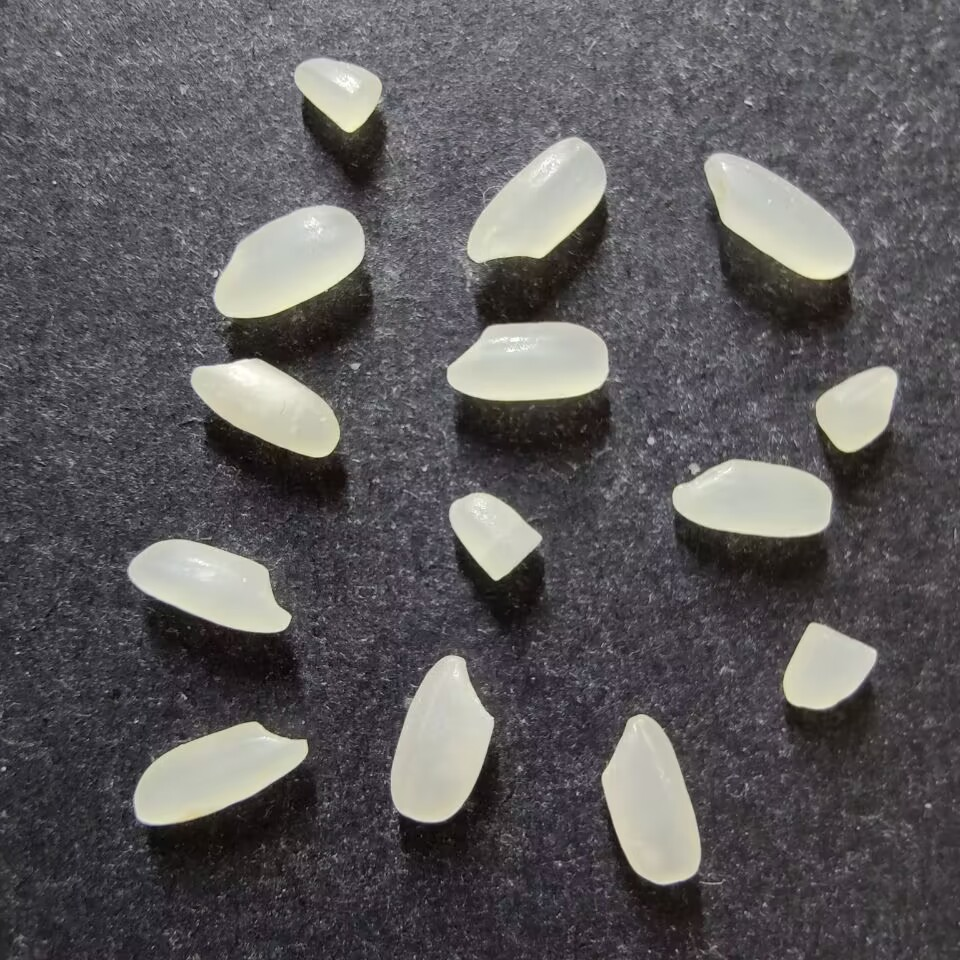broken: (447, 492, 543, 581), (782, 622, 876, 709), (814, 366, 897, 452), (293, 57, 381, 134)
rice: (704, 152, 854, 280), (133, 720, 309, 826), (388, 654, 494, 823), (466, 137, 606, 263), (213, 204, 365, 319), (600, 713, 701, 886), (126, 539, 291, 634), (189, 357, 340, 458), (445, 321, 609, 402), (670, 459, 832, 537)
